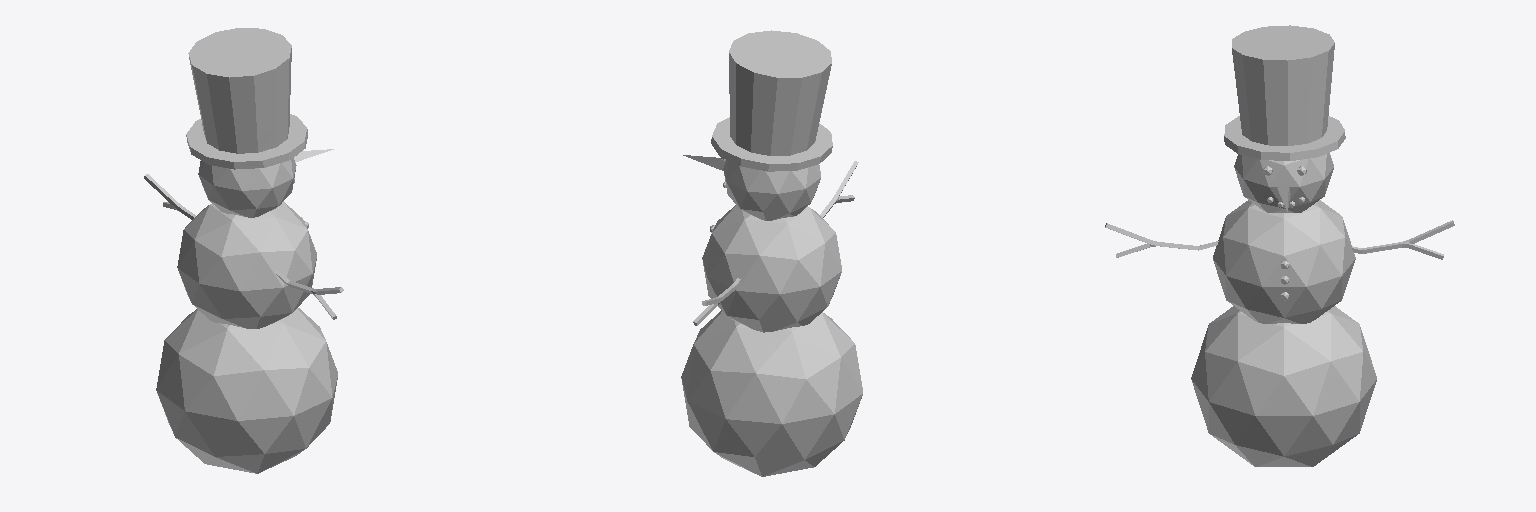
File: Snowman 2.obj
The picture shows the model from 3 angles: view 1: azimuth 30°, elevation 25°; view 2: azimuth 150°, elevation 25°; view 3: azimuth 270°, elevation 25°; orthographic projection.
Visible parts, largest first — view 1: LowerBody_Material.014, Body_Material.014, Cylinder_Material.002, Head_Material.014, Cylinder_Material.003, LeftArm_Material.008; view 2: LowerBody_Material.014, Body_Material.014, Cylinder_Material.002, Head_Material.014, Cylinder_Material.003; view 3: LowerBody_Material.014, Body_Material.014, Cylinder_Material.002, Head_Material.014, Cylinder_Material.003, RightArm_Material.008, LeftArm_Material.008.
Part boxes in pixels (bbox=[...]): LowerBody_Material.014: bbox=[156, 308, 337, 473]; Body_Material.014: bbox=[177, 201, 316, 328]; Cylinder_Material.002: bbox=[186, 28, 307, 169]; Head_Material.014: bbox=[198, 158, 296, 217]; Cylinder_Material.003: bbox=[201, 113, 289, 153]; LeftArm_Material.008: bbox=[275, 270, 343, 319]; LowerBody_Material.014: bbox=[681, 310, 862, 476]; Body_Material.014: bbox=[702, 205, 841, 332]; Cylinder_Material.002: bbox=[711, 30, 832, 171]; Head_Material.014: bbox=[723, 160, 820, 220]; Cylinder_Material.003: bbox=[730, 118, 818, 155]; LowerBody_Material.014: bbox=[1191, 306, 1376, 466]; Body_Material.014: bbox=[1213, 200, 1355, 323]; Cylinder_Material.002: bbox=[1224, 25, 1345, 160]; Head_Material.014: bbox=[1234, 153, 1333, 212]; Cylinder_Material.003: bbox=[1240, 111, 1328, 145]; RightArm_Material.008: bbox=[1352, 220, 1454, 259]; LeftArm_Material.008: bbox=[1105, 223, 1218, 257].
Bounding box in the file's own units: 2.06 × 4.98 × 3.76.